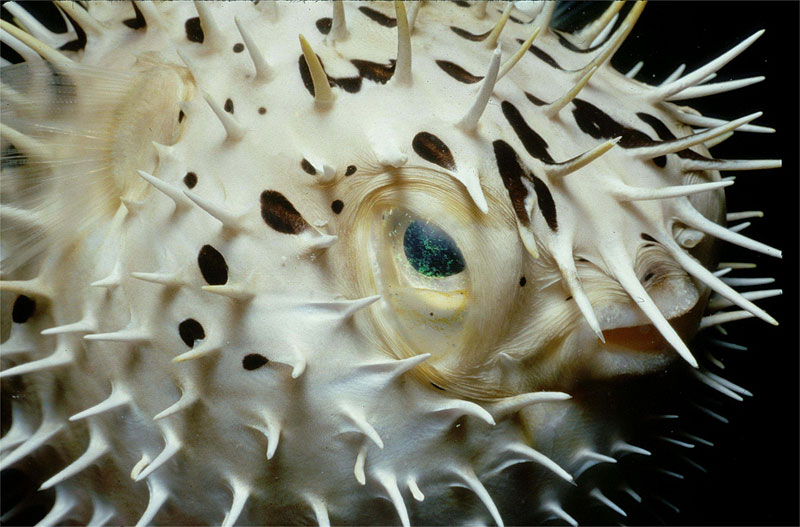Diodon_holocanthus: (1, 3, 798, 523)
